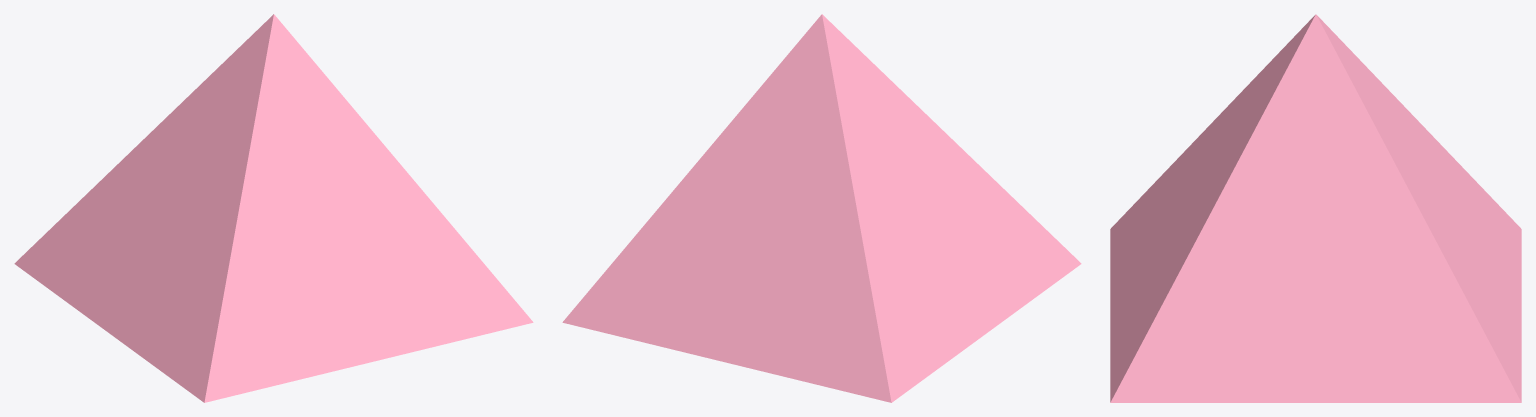
The model's file is triangle.fbx.
3 renders of one model, left to right at view 1: azimuth 30°, elevation 25°; view 2: azimuth 150°, elevation 25°; view 3: azimuth 270°, elevation 25°, orthographic. The views are drawn at different scales.
Parts seen in each view (by area): view 1: root; view 2: root; view 3: root.
Part boxes in pixels (x1,y1,x2,y2): root: [14, 14, 533, 402]; root: [562, 14, 1081, 402]; root: [1110, 14, 1521, 402].
Bounding box in the file's own units: 0.4463 × 0.3615 × 0.4463.
